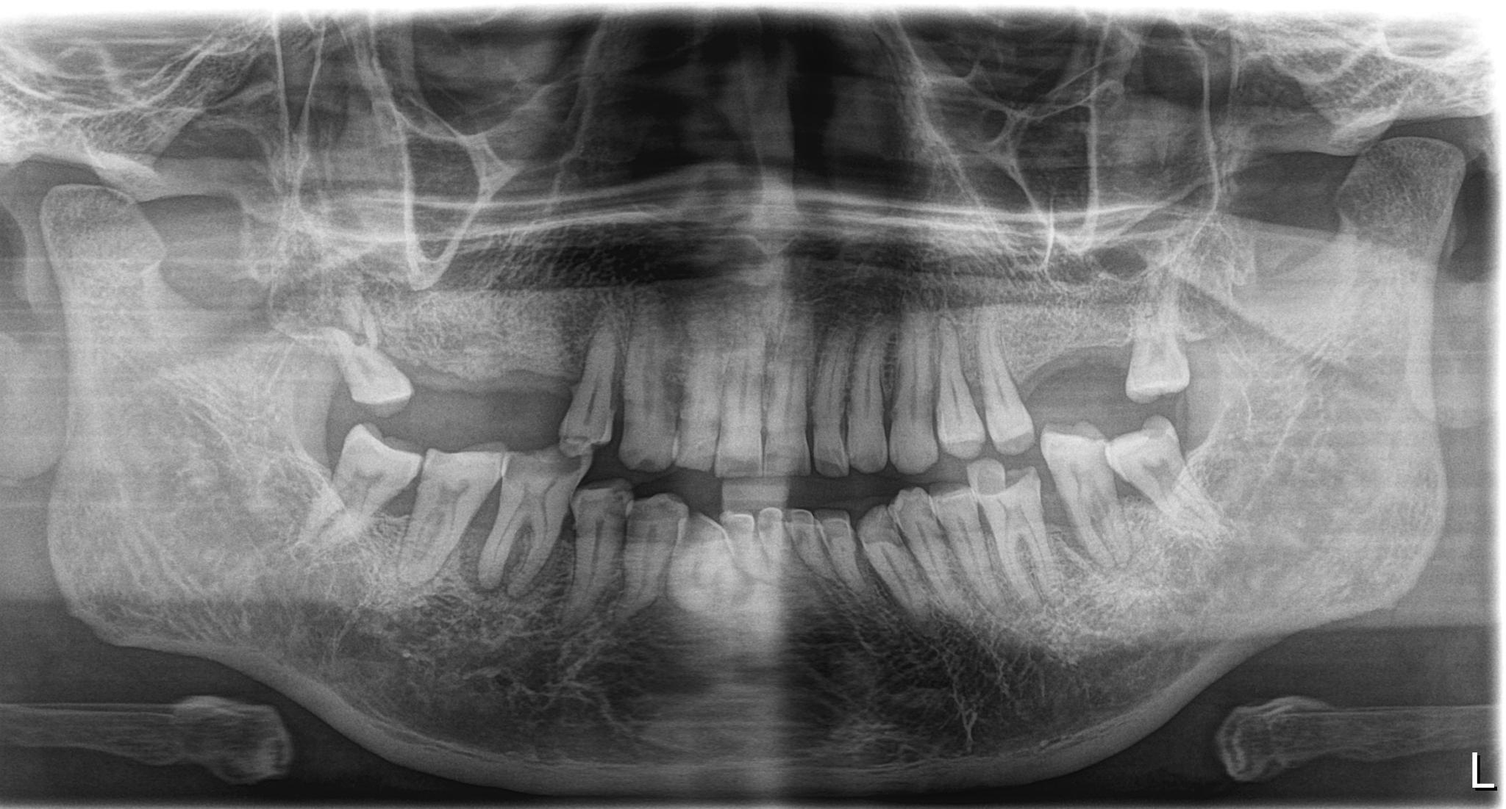Dental Caries: (513, 441, 592, 497)
Missing Tooth: (408, 299, 580, 416), (1007, 305, 1127, 414)
